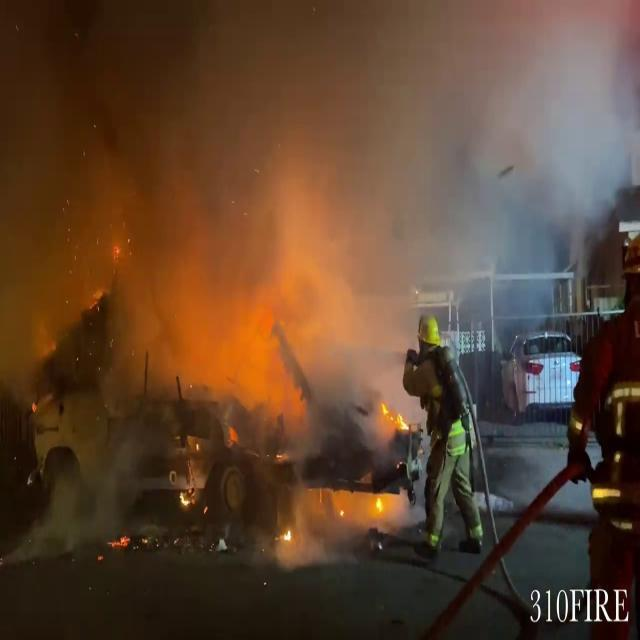Fire: (378, 399, 412, 436)
Smoke: (0, 0, 620, 385)
